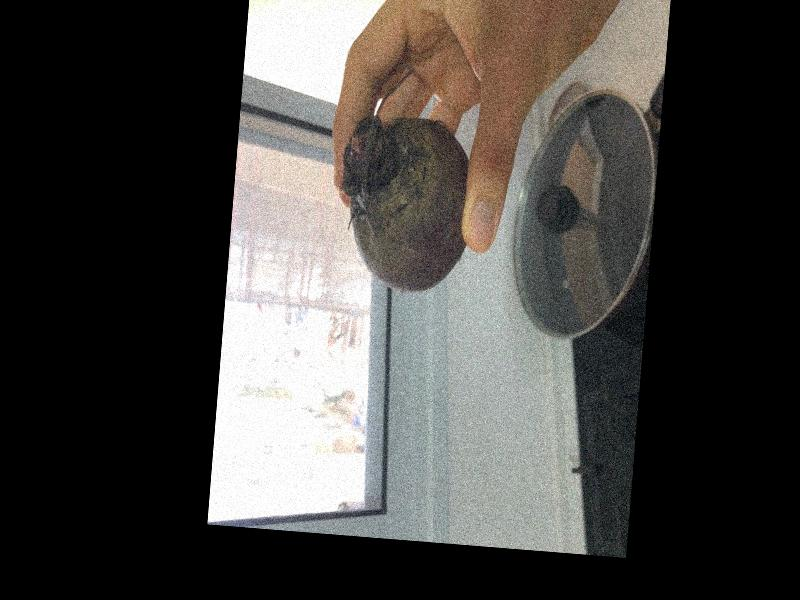Beet: (332, 62, 481, 296)
